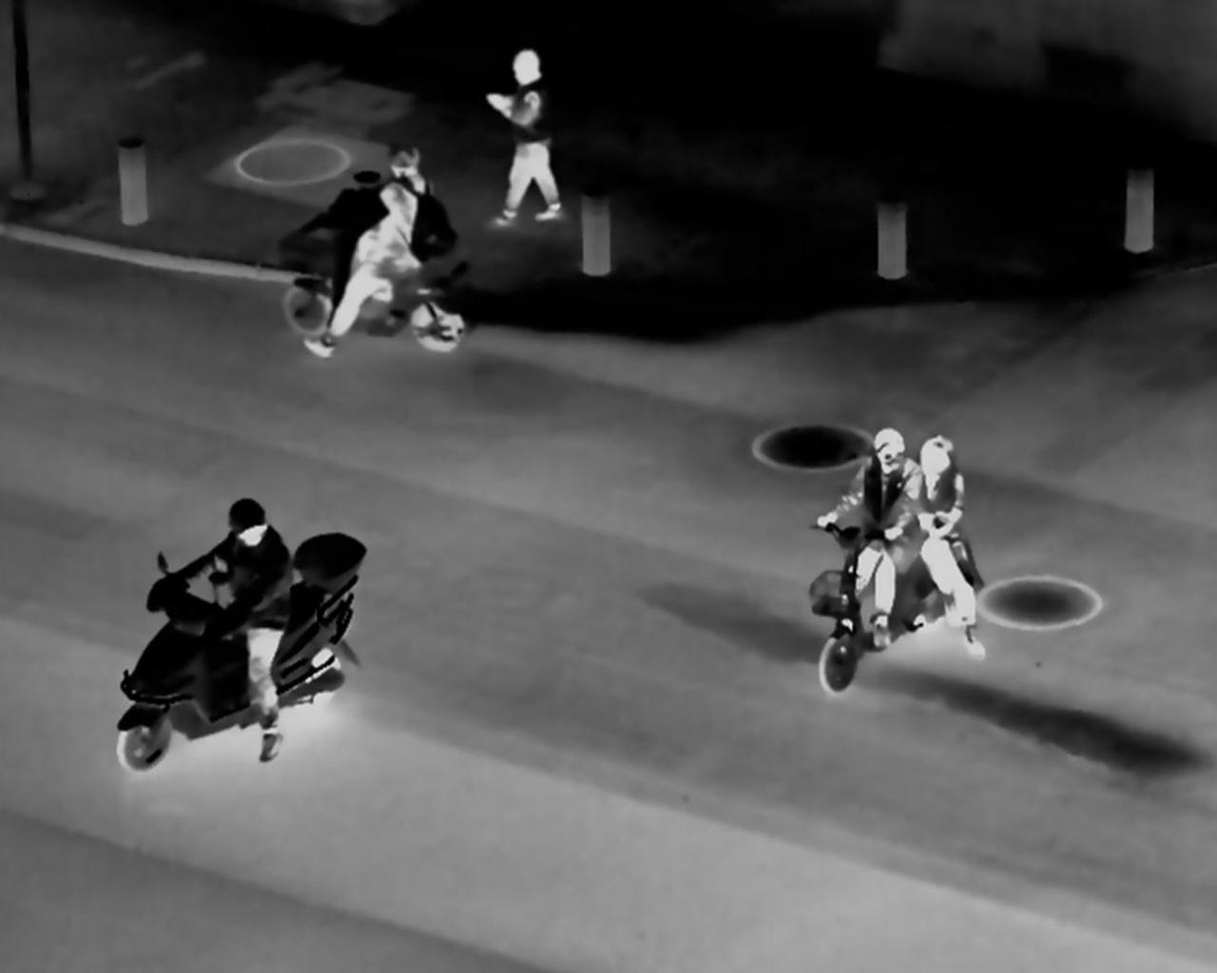person: (195, 483, 304, 776), (337, 143, 454, 364), (824, 410, 922, 658), (912, 429, 1002, 671), (480, 40, 570, 235)
